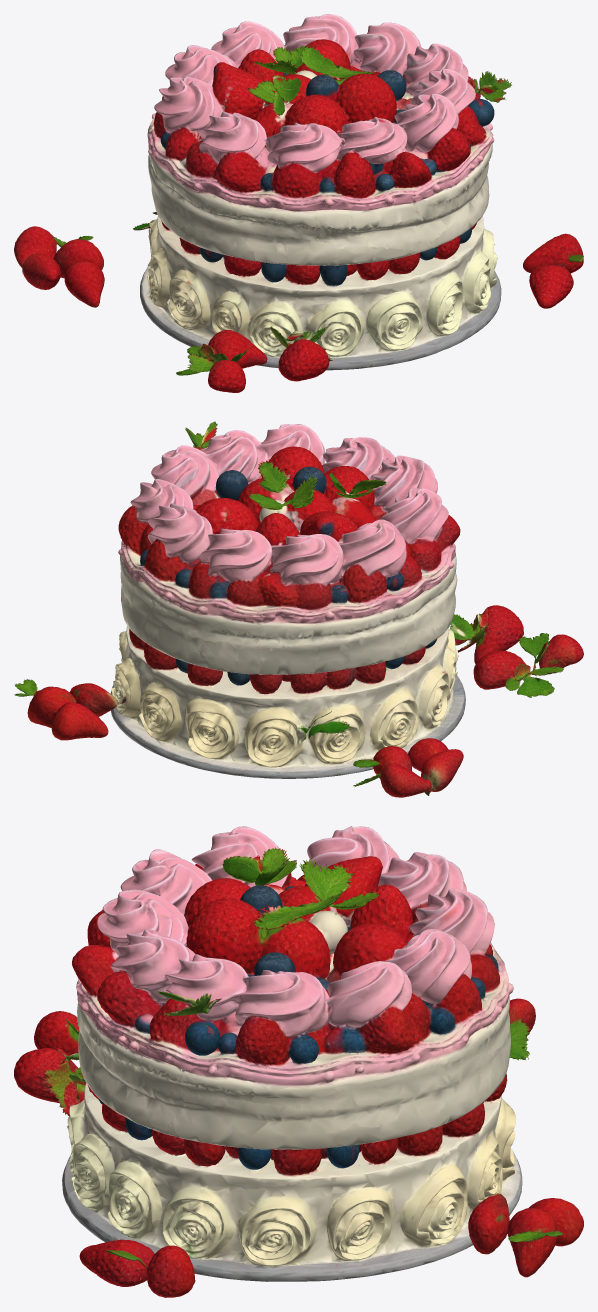
File: cake-meshy.glb
The picture shows the model from 3 angles, top to bottom: view 1: azimuth 30°, elevation 25°; view 2: azimuth 150°, elevation 25°; view 3: azimuth 270°, elevation 25°; orthographic projection. The views are drawn at different scales.
Parts seen in each view (by area): view 1: mesh_node; view 2: mesh_node; view 3: mesh_node.
Boxes of the visible parts, left/top/right/bottom form: mesh_node: left=14, top=14, right=583, bottom=392; mesh_node: left=14, top=421, right=583, bottom=797; mesh_node: left=14, top=826, right=583, bottom=1297.
Size of the model in its own units: 1.87 by 0.9794 by 1.64.
Materials: 1 (1 with a texture image).
